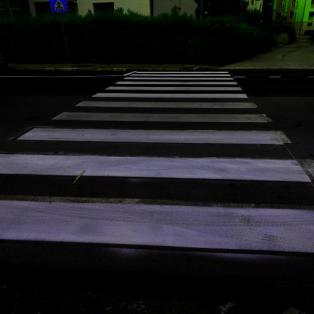Paso de Cebra: (9, 111, 298, 148), (88, 85, 252, 101)
